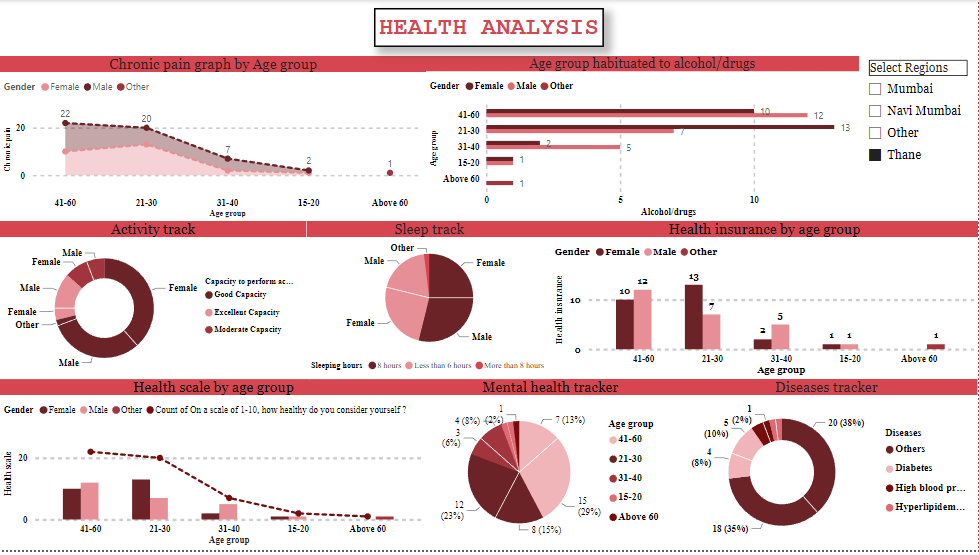

This screenshot's page, from the dashboard's own definition file:
{"tool":"powerbi","page":{"name":"Page 1","canvas":[1280,720],"ordinal":0},"visuals":[{"type":"clusteredColumnChart","title":"Health insurance by age group","fields":{"Series":["Health Analysis.Gender"],"Category":["Health Analysis.Age group"],"Y":["CountNonNull(Health Analysis.Do you have a health insurance ? )"]},"box":[721.3,289.5,558.7,206.6],"z":0},{"type":"slicer","fields":{"Values":["Health Analysis.Select your region of residence"]},"box":[1124.6,73.9,155.1,215.9],"z":1000},{"type":"lineClusteredColumnComboChart","title":"Health scale by age group","fields":{"Category":["Health Analysis.Age group"],"Series":["Health Analysis.Gender"],"Y":["CountNonNull(Health Analysis.On a scale of 1-10, how healthy do you consider yourself ?)"],"Y2":["CountNonNull(Health Analysis.On a scale of 1-10, how healthy do you consider yourself ?)"]},"box":[0,496.1,558.7,223.5],"z":2000},{"type":"stackedAreaChart","title":"Chronic pain graph by Age group ","fields":{"Category":["Health Analysis.Age group"],"Y":["CountNonNull(Health Analysis.Do you experience any chronic pain ?)"],"Series":["Health Analysis.Gender"]},"box":[0,73.4,558.3,216.1],"z":3000},{"type":"donutChart","title":"Activity track","fields":{"Category":["Health Analysis.In your opinion, at what capacity can you perform everyday activities ? "],"Series":["Health Analysis.Gender"],"Y":["CountNonNull(Health Analysis.Gender)"]},"box":[0,289.5,401.3,206.6],"z":4000},{"type":"clusteredBarChart","title":"Age group  habituated to alcohol/drugs","fields":{"Y":["CountNonNull(Health Analysis.Are you habituated to alcohol/drugs ?)"],"Series":["Health Analysis.Gender"],"Category":["Health Analysis.Age group"]},"box":[558.3,73.4,566.6,216.1],"z":5000},{"type":"pieChart","title":"Mental health tracker","fields":{"Category":["Health Analysis.Age group"],"Y":["CountNonNull(Health Analysis.Does your mental well being has an affect on your physical health ?)"],"Series":["Health Analysis.Does your mental well being has an affect on your physical health ?"]},"box":[558.3,495.9,325.5,223],"z":6000},{"type":"donutChart","title":"Diseases tracker","fields":{"Series":["Health Analysis.Gender"],"Category":["Health Analysis.Do you have any hereditary conditions/ diseases ?"],"Y":["CountNonNull(Health Analysis.Do you have any hereditary conditions/ diseases ?)"]},"box":[883.8,495.9,396.2,223],"z":7000},{"type":"pieChart","title":"Sleep track","fields":{"Category":["Health Analysis.How much hours of sleep do you get on a daily basis ? "],"Y":["CountNonNull(Health Analysis.Gender)"],"Series":["Health Analysis.Gender"]},"box":[401.3,289.5,320,206.6],"z":8000},{"type":"shape","box":[489,11.1,300.6,51.3],"z":9000}]}

Visuals, with their boxes in screenshot pixels (x1, y1, x2, y2), scaled from the page's 1280x720 canvas onto the 979x555 screenshot:
"Health insurance by age group" clusteredColumnChart: bbox(552, 223, 978, 382)
slicer - Health Analysis.Select your region of residence: bbox(860, 57, 978, 223)
"Health scale by age group" lineClusteredColumnComboChart: bbox(0, 382, 427, 554)
"Chronic pain graph by Age group " stackedAreaChart: bbox(0, 57, 427, 223)
"Activity track" donutChart: bbox(0, 223, 307, 382)
"Age group  habituated to alcohol/drugs" clusteredBarChart: bbox(427, 57, 860, 223)
"Mental health tracker" pieChart: bbox(427, 382, 676, 554)
"Diseases tracker" donutChart: bbox(676, 382, 978, 554)
"Sleep track" pieChart: bbox(307, 223, 552, 382)
shape: bbox(374, 9, 604, 48)
